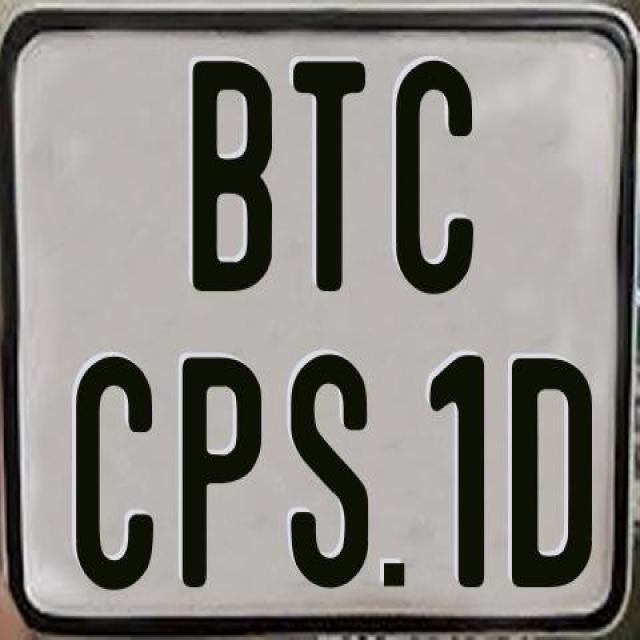1: (428, 356, 491, 590)
B: (192, 61, 271, 292)
C: (393, 59, 479, 298), (72, 357, 150, 600)
D: (510, 357, 598, 589)
P: (182, 355, 262, 595)
S: (288, 352, 368, 594)
T: (290, 56, 370, 288)
